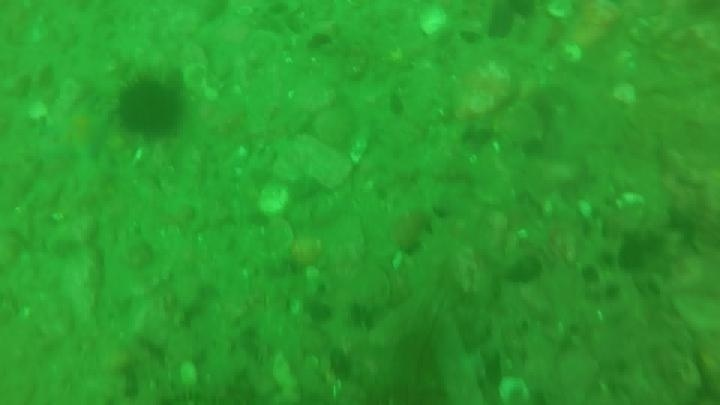echinus: (114, 75, 186, 141)
holothurian: (541, 214, 706, 401)
starfish: (43, 98, 114, 165)
